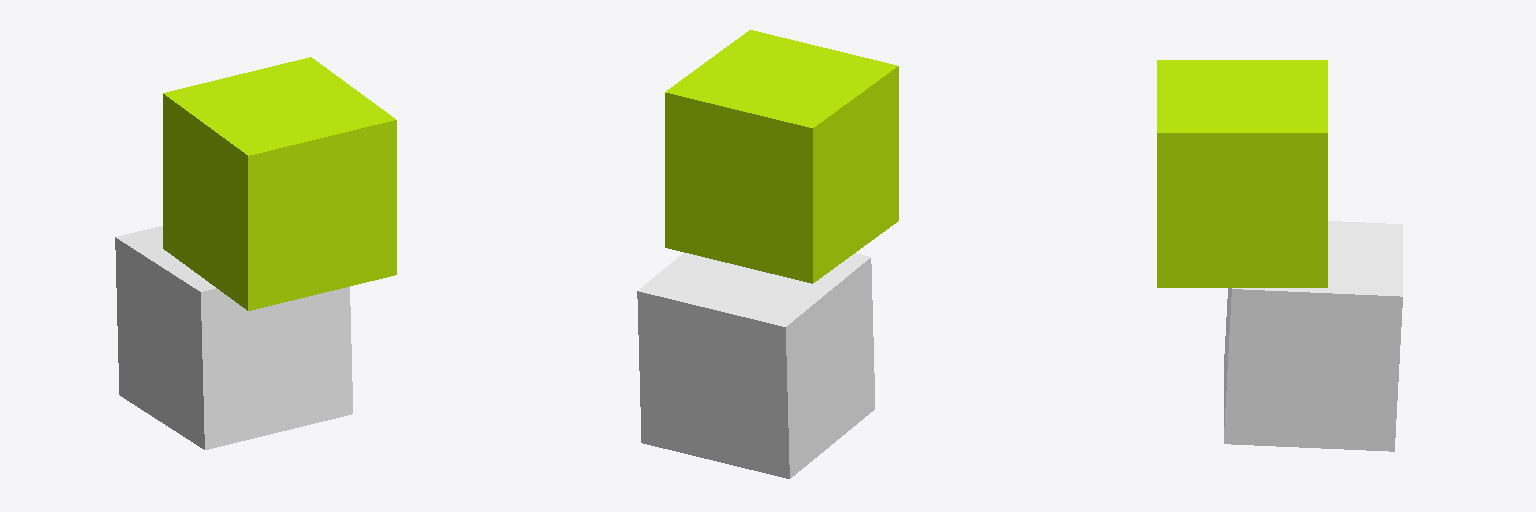
Rendered from Movable7.obj.
3 renders of one model, left to right at view 1: azimuth 30°, elevation 25°; view 2: azimuth 150°, elevation 25°; view 3: azimuth 270°, elevation 25°, orthographic.
Visible parts, largest first — view 1: Movable, Static; view 2: Movable, Static; view 3: Movable, Static.
Boxes of the visible parts, box(x1,y1,x2,y2) form: Movable: box(163, 57, 396, 310); Static: box(115, 226, 352, 449); Movable: box(665, 30, 898, 283); Static: box(637, 253, 874, 478); Movable: box(1157, 60, 1327, 287); Static: box(1224, 221, 1402, 451).
Bounding box in the file's own units: 0.2137 × 0.4173 × 0.2874.